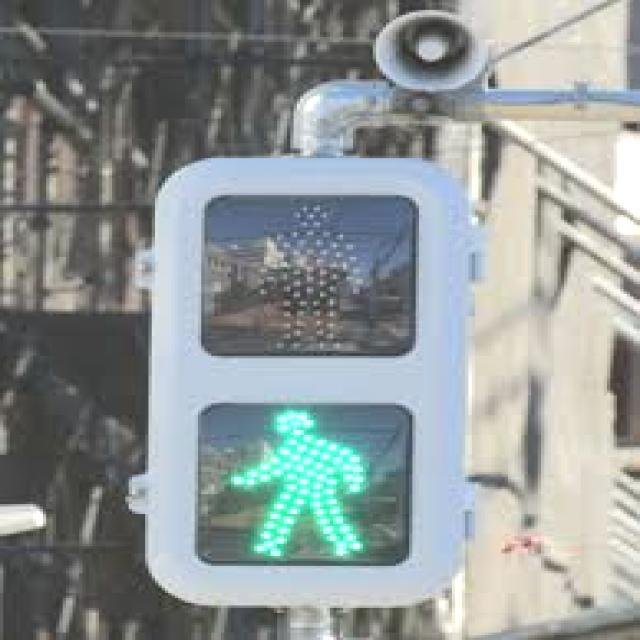trafficlight: (125, 153, 482, 603)
